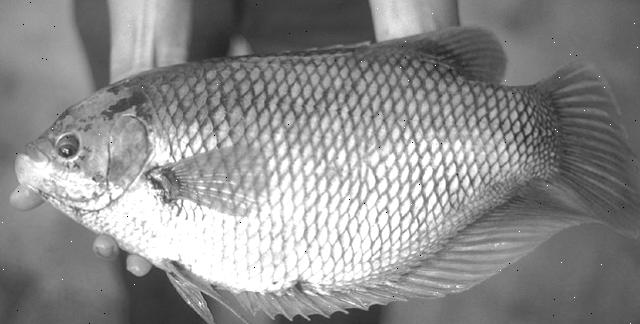Mulut: (1, 121, 62, 205)
Sirip Dada: (138, 125, 284, 226)
Sirip Ekor: (518, 47, 640, 240)
Sirip Perut: (148, 244, 258, 324)
Sirip Punggung: (263, 18, 519, 100)
